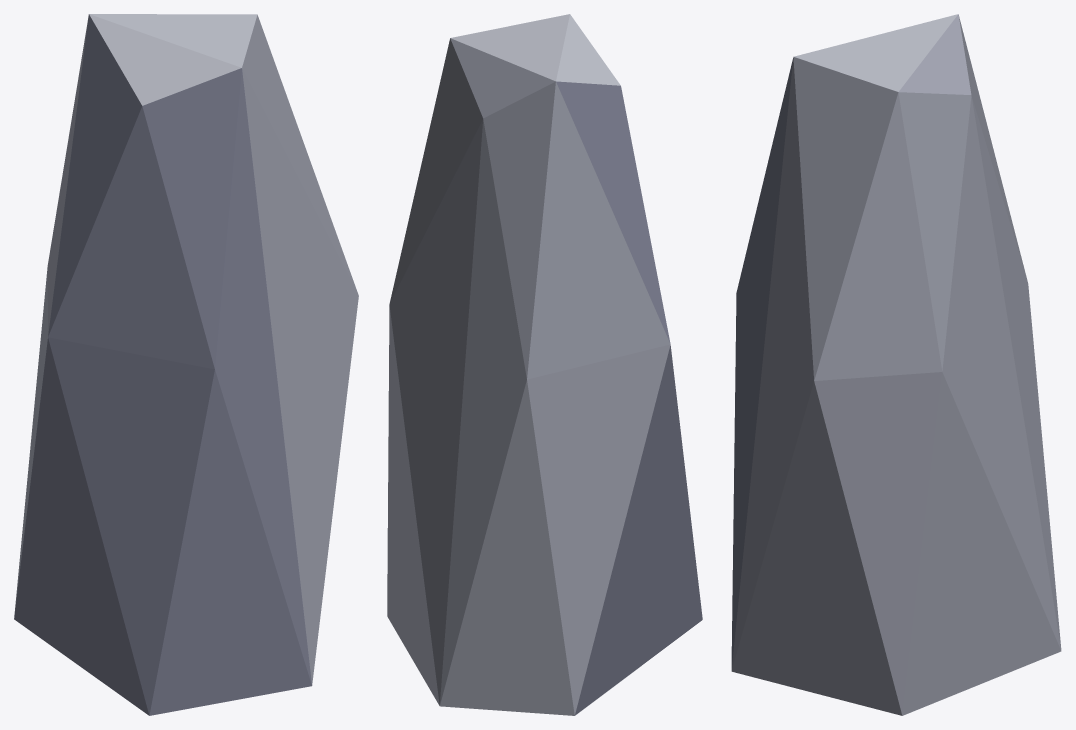
Rendered from stone_tallC.glb.
The picture shows the model from 3 angles, left to right: view 1: azimuth 30°, elevation 25°; view 2: azimuth 150°, elevation 25°; view 3: azimuth 270°, elevation 25°; orthographic projection.
Visible parts, largest first — view 1: stone_tallC; view 2: stone_tallC; view 3: stone_tallC.
Boxes of the visible parts, bbox=[...] form: stone_tallC: bbox=[14, 14, 358, 715]; stone_tallC: bbox=[387, 14, 702, 715]; stone_tallC: bbox=[731, 14, 1061, 715].
Bounding box in the file's own units: 0.3708 × 0.7798 × 0.3851.
Materials: 1 (1 with a texture image).
